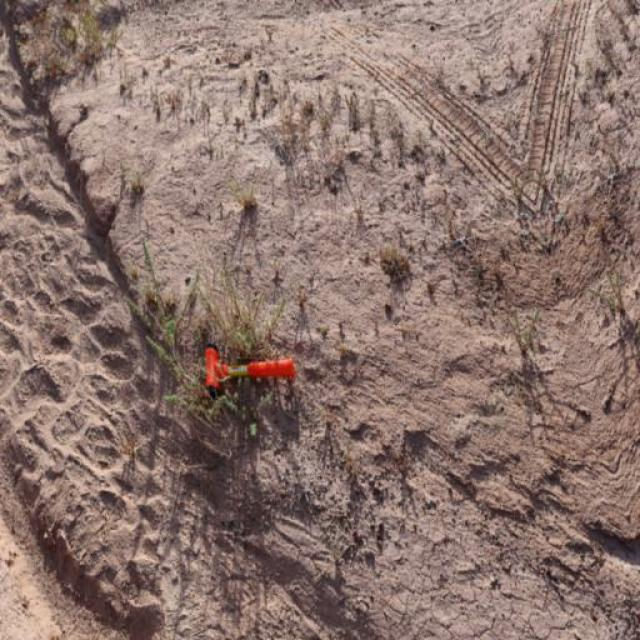mallet: (201, 341, 295, 399)
